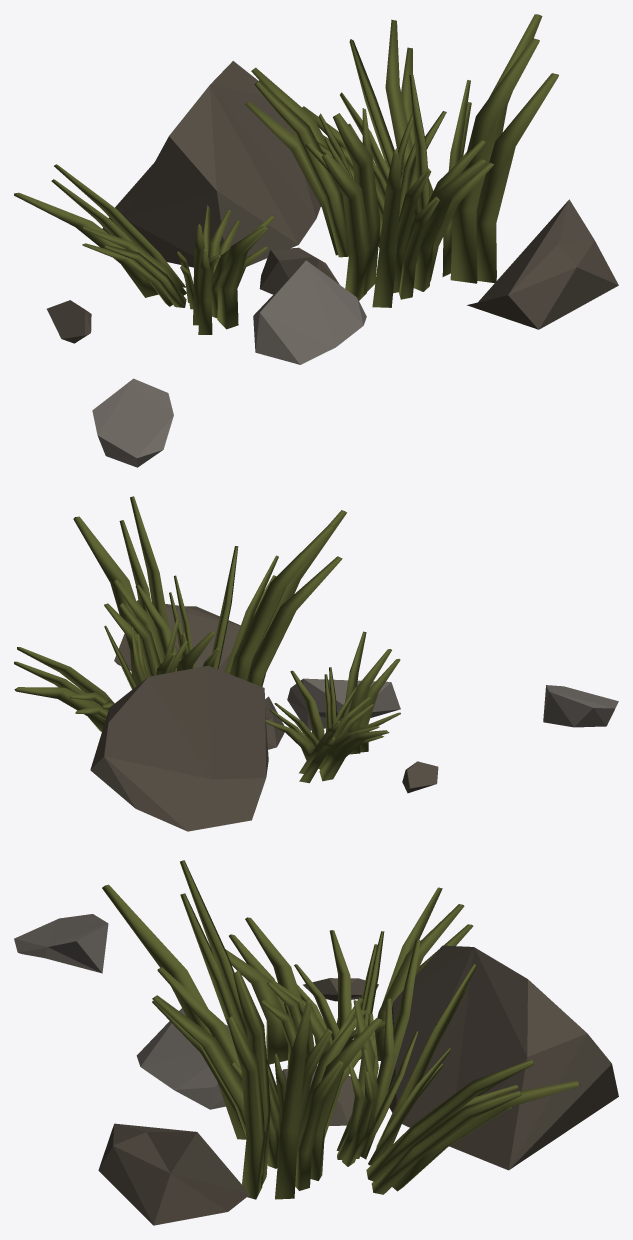
Rendered from Grass 1.glb.
The picture shows the model from 3 angles, top to bottom: view 1: azimuth 30°, elevation 25°; view 2: azimuth 150°, elevation 25°; view 3: azimuth 270°, elevation 25°; orthographic projection. The views are drawn at different scales.
Parts seen in each view (by area): view 1: Grass 1; view 2: Grass 1; view 3: Grass 1.
Part boxes in pixels (x1=…): Grass 1: x1=14, y1=14, x2=618, y2=467; Grass 1: x1=14, y1=496, x2=618, y2=831; Grass 1: x1=14, y1=860, x2=618, y2=1225.
Size of what is drawn, in the model's own units: 2.08 by 0.8357 by 1.87.
1 material, 1 textured.
